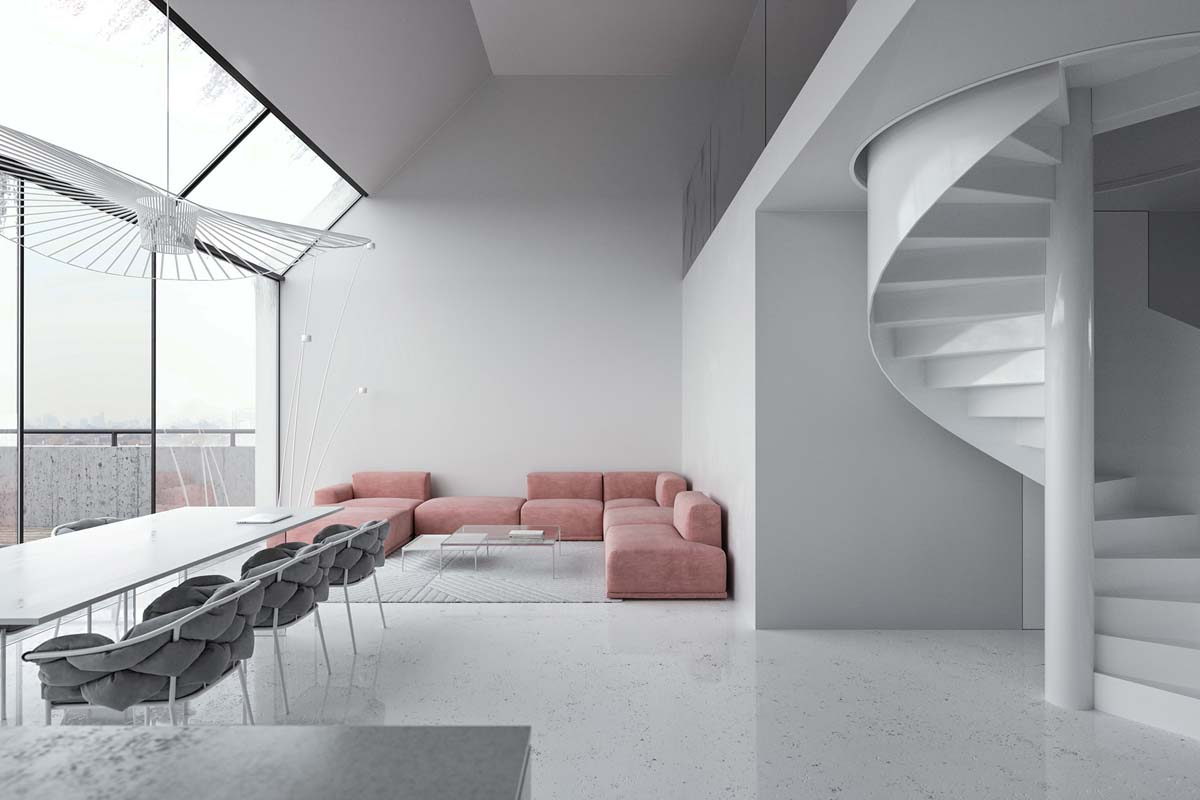dining table set: (0, 503, 393, 724)
sofa: (271, 461, 742, 605)
table: (400, 523, 571, 590)
